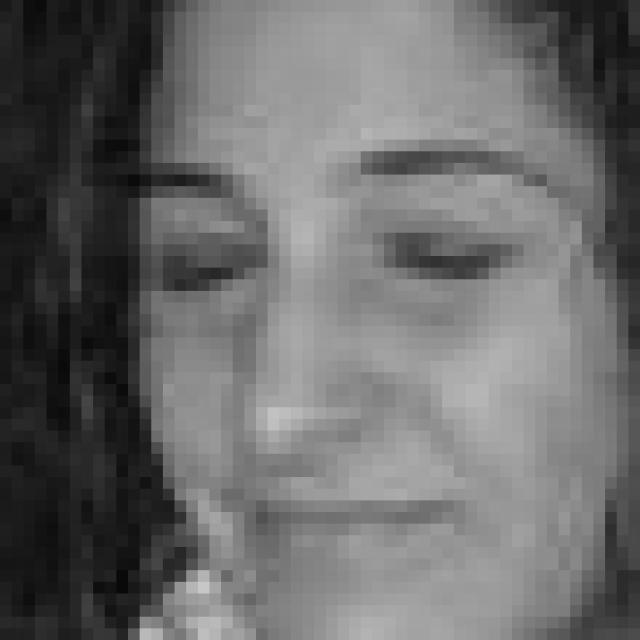real: (102, 20, 602, 569), (156, 192, 533, 319)
